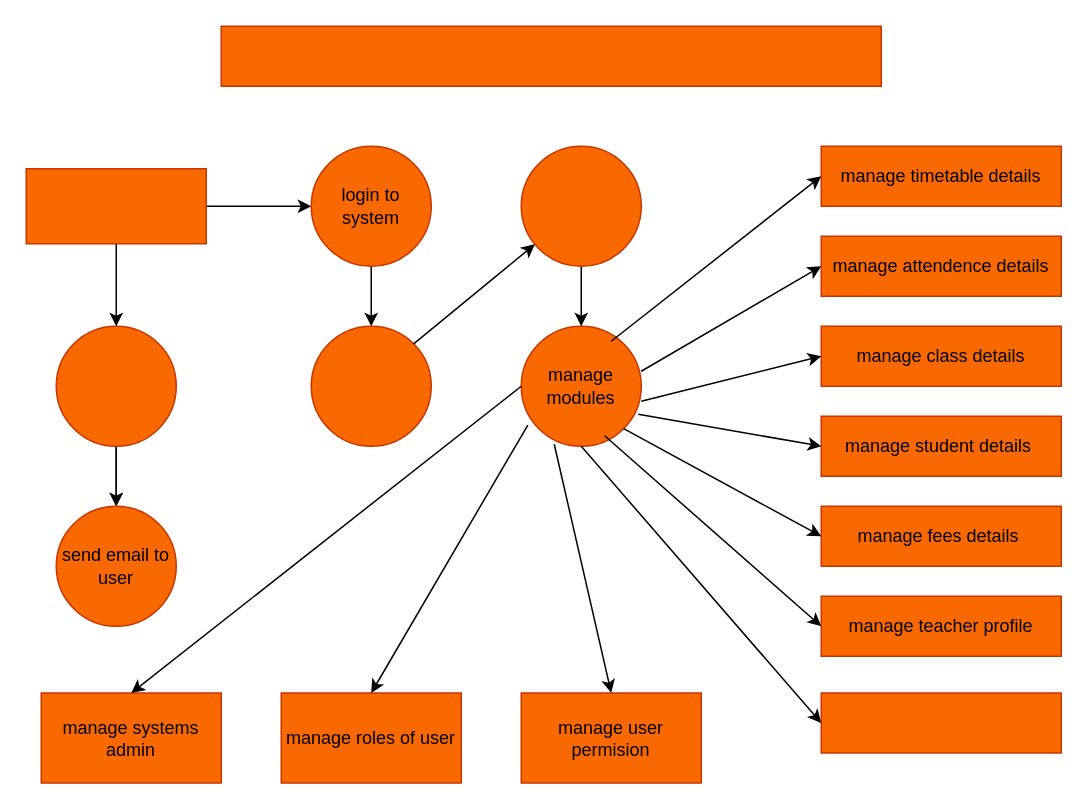
Some shapes in this 1088 by 810 pixel diagram are drawn without their labels. The shapes that lost their labels are listed below. From the top down, each one's box as (x1, y1, x2, y2) in pixels, then its label:
(220, 25, 881, 86): student inforamation system
(25, 167, 206, 244): admin
(520, 145, 641, 266): check roles of access
(55, 325, 176, 446): forgot password
(310, 325, 431, 446): check credentials
